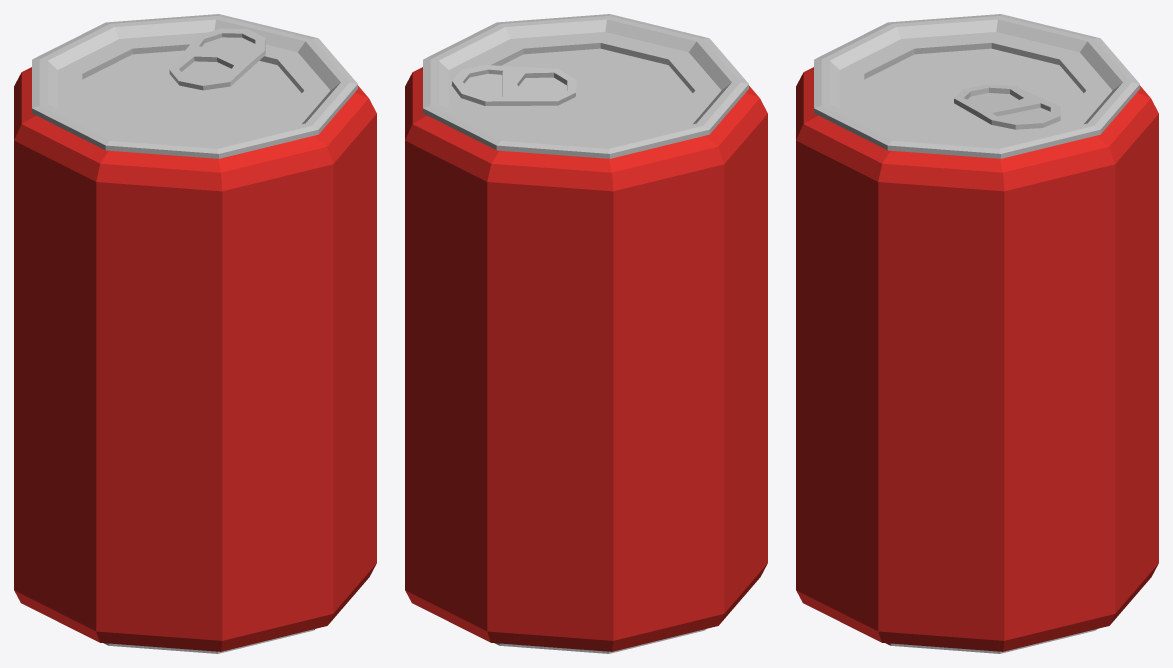
The model's file is can.fbx.
3 views of the same model, side by side, from view 1: azimuth 30°, elevation 25°; view 2: azimuth 150°, elevation 25°; view 3: azimuth 270°, elevation 25° (orthographic).
Parts seen in each view (by area): view 1: can_export; view 2: can_export; view 3: can_export.
Boxes of the visible parts, left/top/right/bottom form: can_export: left=14, top=14, right=376, bottom=653; can_export: left=405, top=14, right=767, bottom=653; can_export: left=796, top=14, right=1158, bottom=653.
Size of the model in its own units: 19.32 by 29.44 by 19.02.
